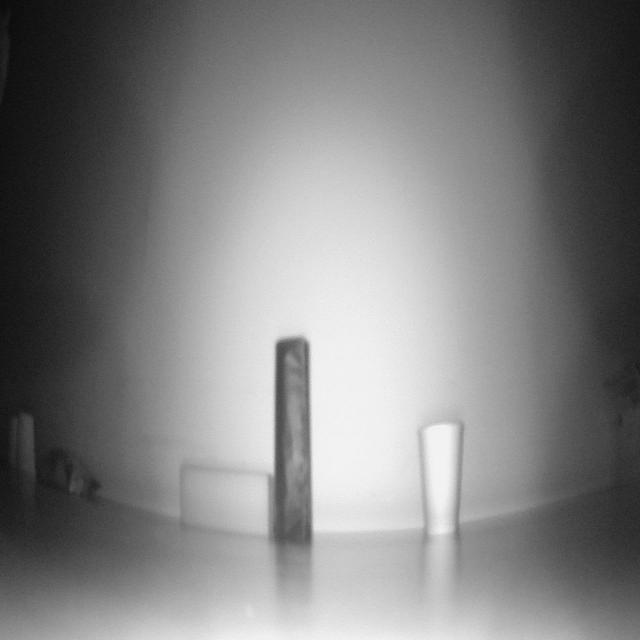targets: (271, 336, 310, 542), (173, 467, 274, 535), (422, 419, 462, 535), (44, 444, 98, 502), (11, 408, 35, 481)
